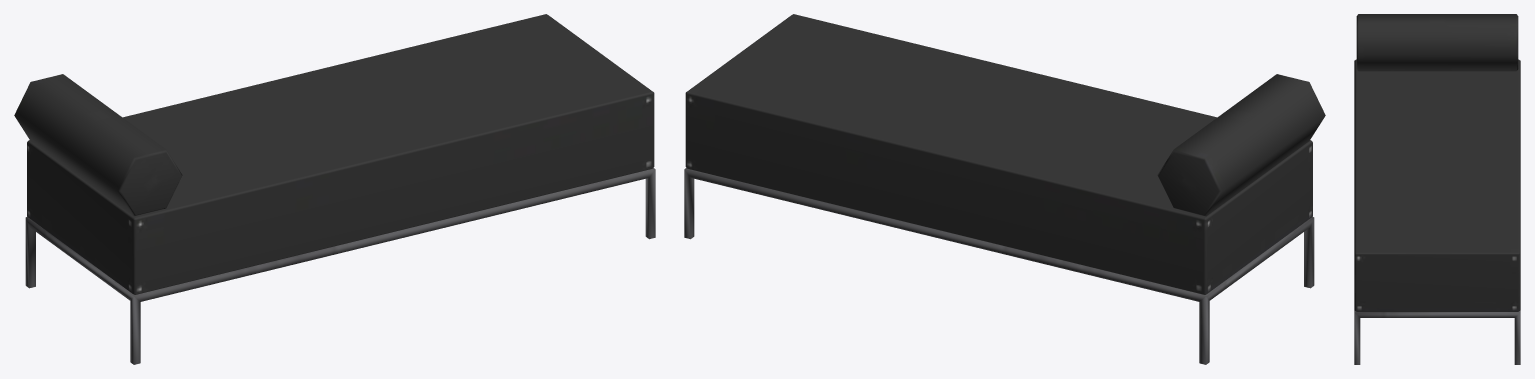
The model's file is bench-03.glb.
3 renders of one model, left to right at view 1: azimuth 30°, elevation 25°; view 2: azimuth 150°, elevation 25°; view 3: azimuth 270°, elevation 25°, orthographic. The views are drawn at different scales.
Parts seen in each view (by area): view 1: Bench_03; view 2: Bench_03; view 3: Bench_03.
Boxes of the visible parts, x1,y1,x2,y2 form: Bench_03: (14, 14, 655, 364); Bench_03: (684, 14, 1325, 364); Bench_03: (1354, 14, 1520, 364).
Size of the model in its own units: 2.05 by 0.7509 by 0.72.
Materials: 1 (1 with a texture image).
